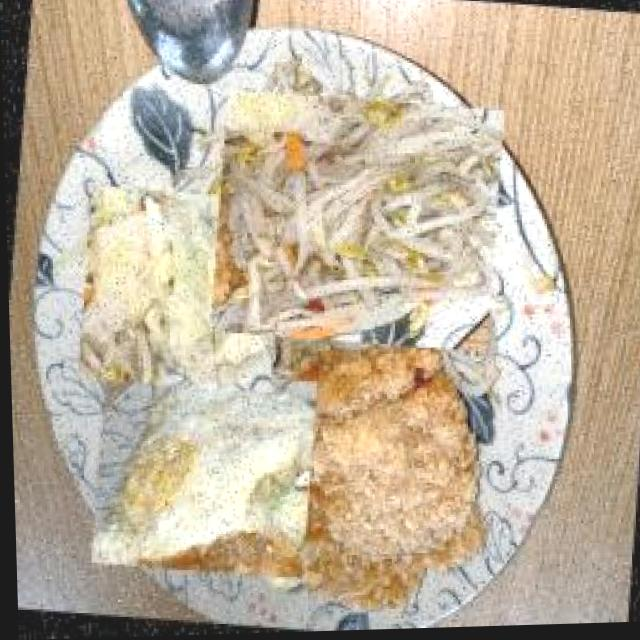chinese_cabbage: (72, 183, 290, 401)
fried_chicken: (243, 329, 505, 625)
fried_eggs: (86, 358, 317, 588)
mung_bean_sprouts: (210, 77, 502, 368)
